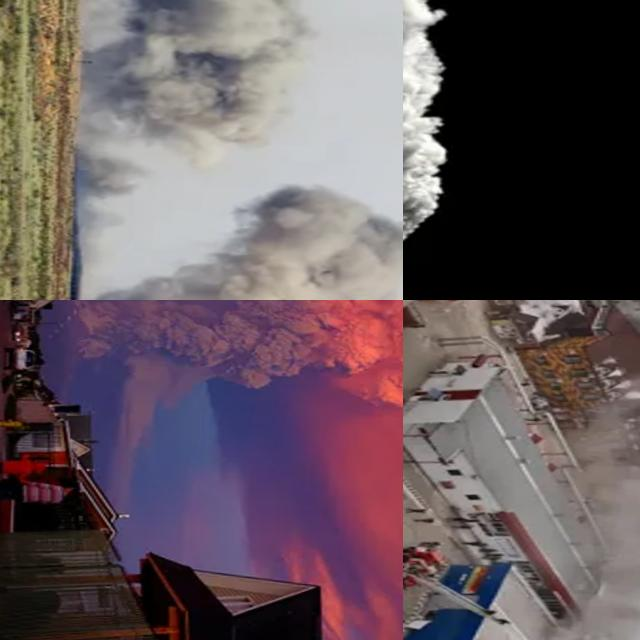smoke: (70, 0, 308, 202), (69, 179, 403, 300), (524, 331, 640, 640), (77, 300, 403, 397), (403, 0, 489, 256)
